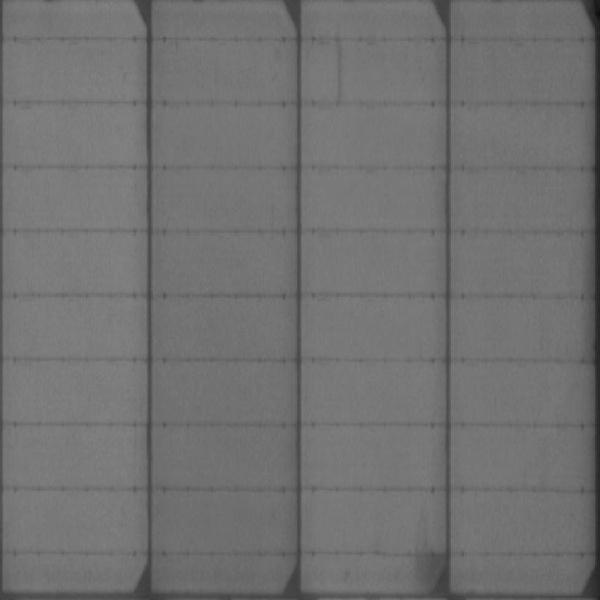scratch: (331, 35, 348, 115)
